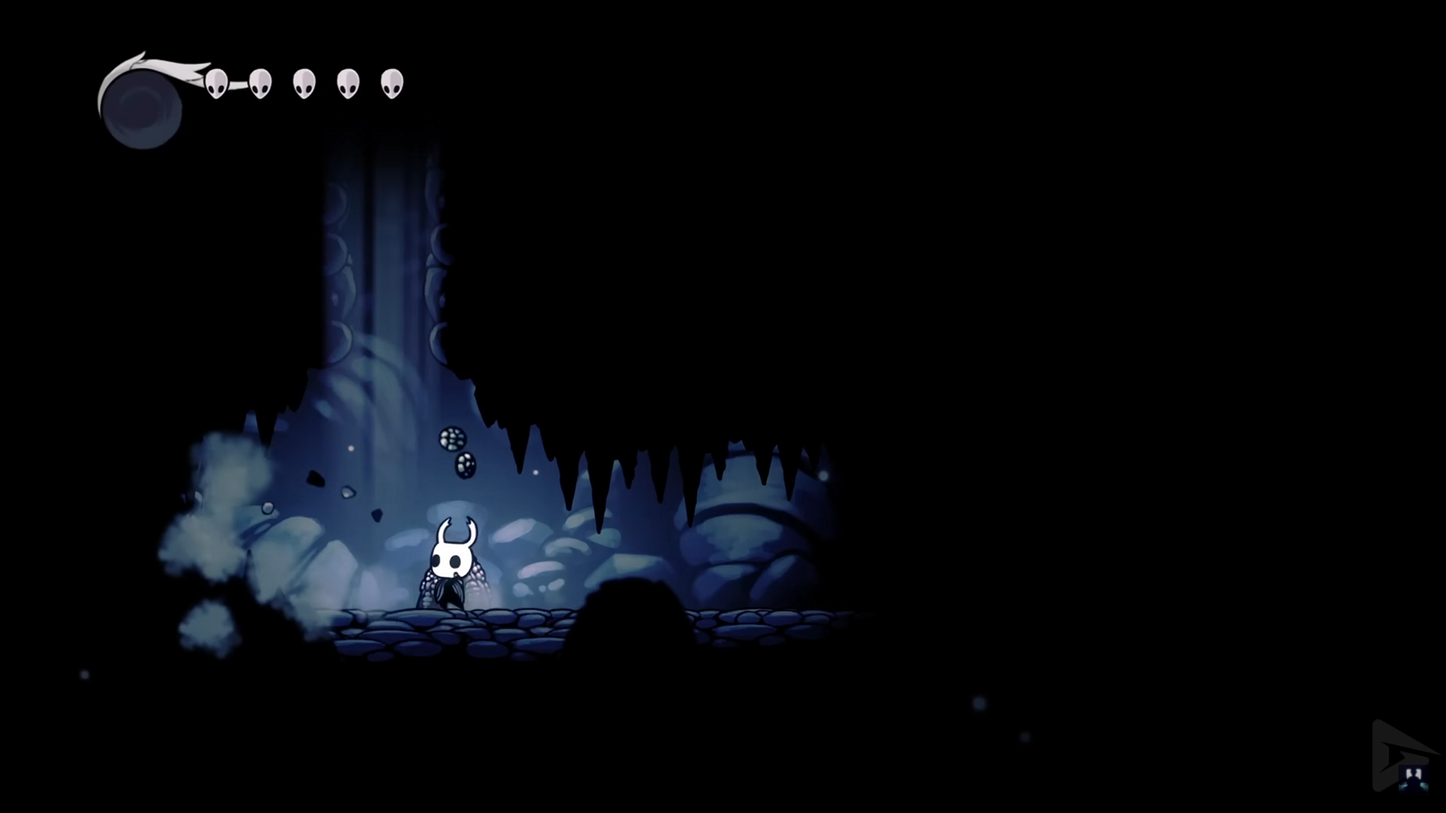HK: (419, 516, 485, 614)
